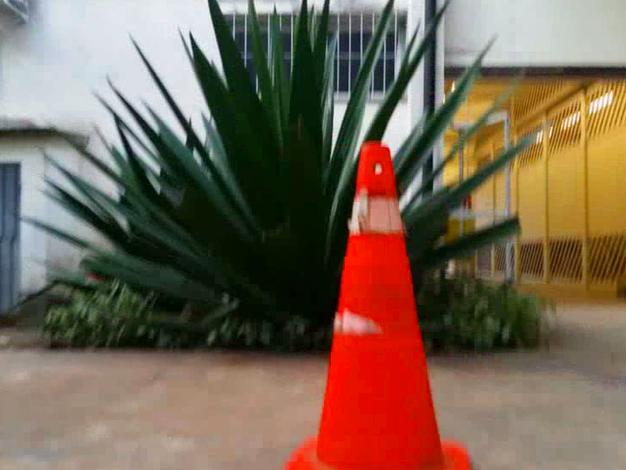0 cone: (287, 144, 471, 470)
